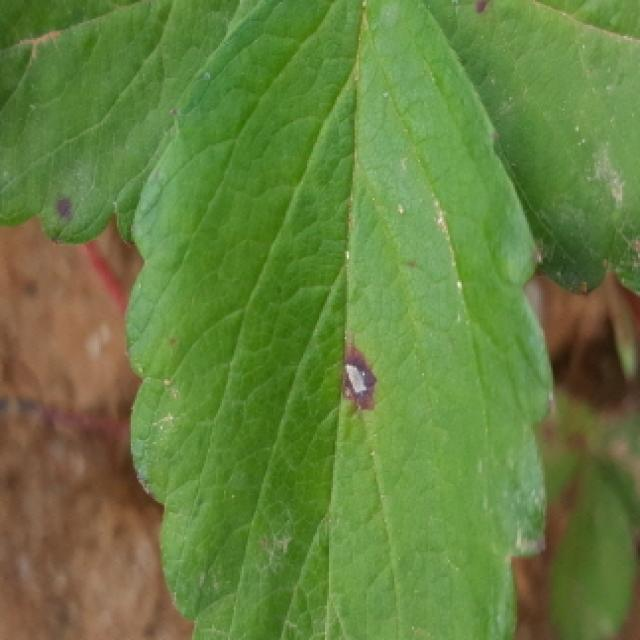Leaf Spot: (123, 0, 554, 640), (424, 0, 640, 297), (533, 386, 595, 507)
